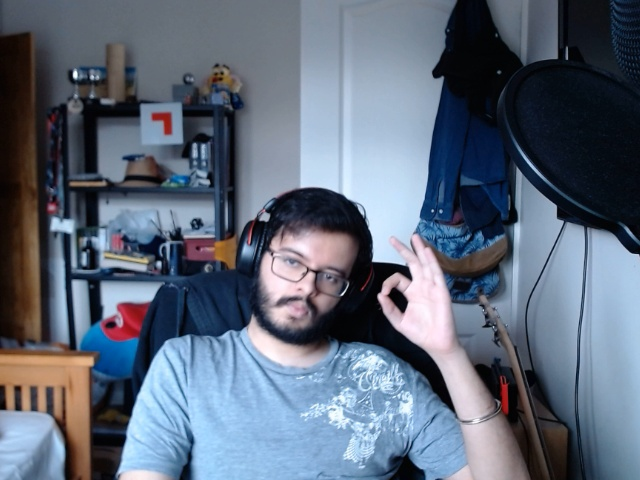Okay: (379, 226, 456, 348)
